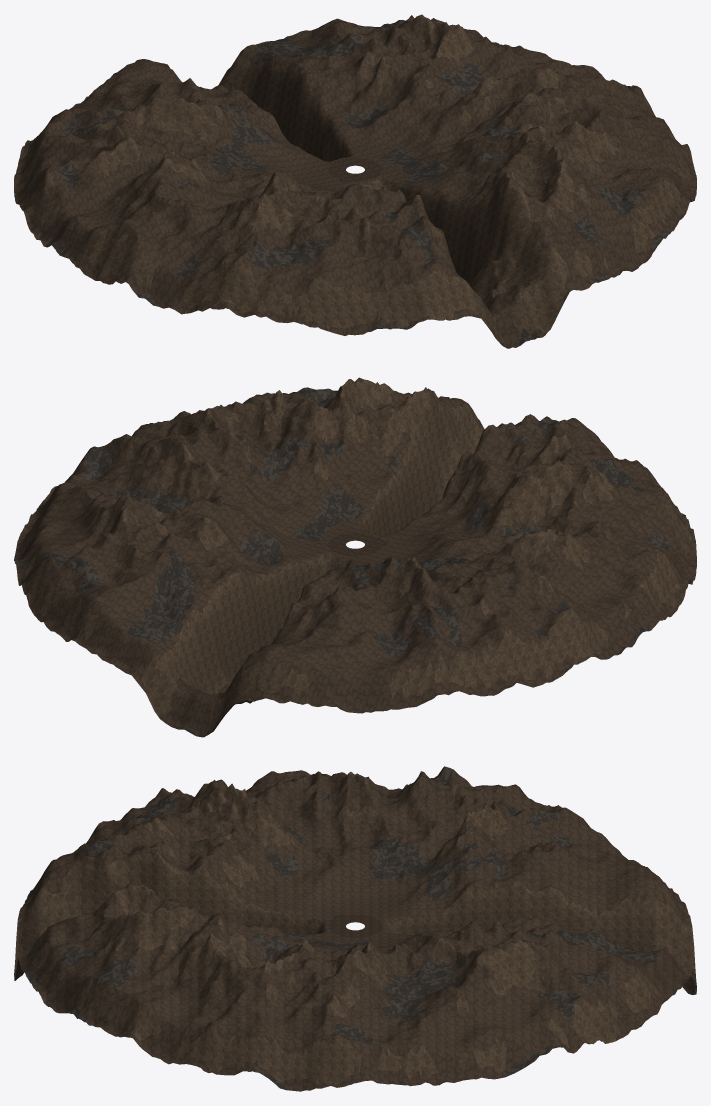
Rendered from backdrop_near_c23_dead.glb.
3 renders of one model, top to bottom at view 1: azimuth 30°, elevation 25°; view 2: azimuth 150°, elevation 25°; view 3: azimuth 270°, elevation 25°, orthographic.
Visible parts, largest first — view 1: near_land_S, near_land_W, near_land_E, near_land_N; view 2: near_land_N, near_land_W, near_land_E, near_land_S; view 3: near_land_E, near_land_S, near_land_N, near_land_W.
Part boxes in pixels (left/top/right/bottom): near_land_S: left=266, top=125, right=685, bottom=348; near_land_W: left=14, top=97, right=351, bottom=317; near_land_E: left=360, top=14, right=696, bottom=215; near_land_N: left=25, top=15, right=438, bottom=166; near_land_N: left=26, top=513, right=447, bottom=737; near_land_W: left=362, top=460, right=696, bottom=696; near_land_E: left=14, top=390, right=352, bottom=594; near_land_S: left=272, top=377, right=680, bottom=544; near_land_E: left=115, top=917, right=597, bottom=1091; near_land_S: left=14, top=806, right=338, bottom=1036; near_land_N: left=375, top=810, right=696, bottom=1043; near_land_W: left=132, top=766, right=570, bottom=918.
Bounding box in the file's own units: 576 × 168 × 576.
Materials: 3 (3 with a texture image).
